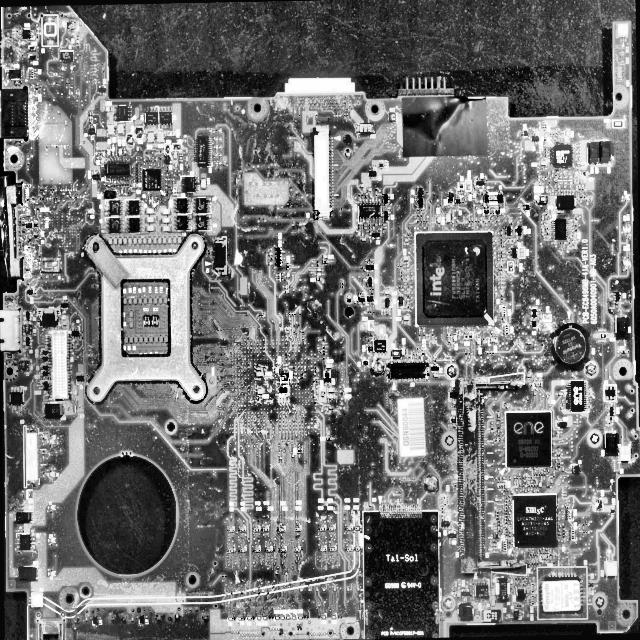PCB: (1, 8, 635, 636)
